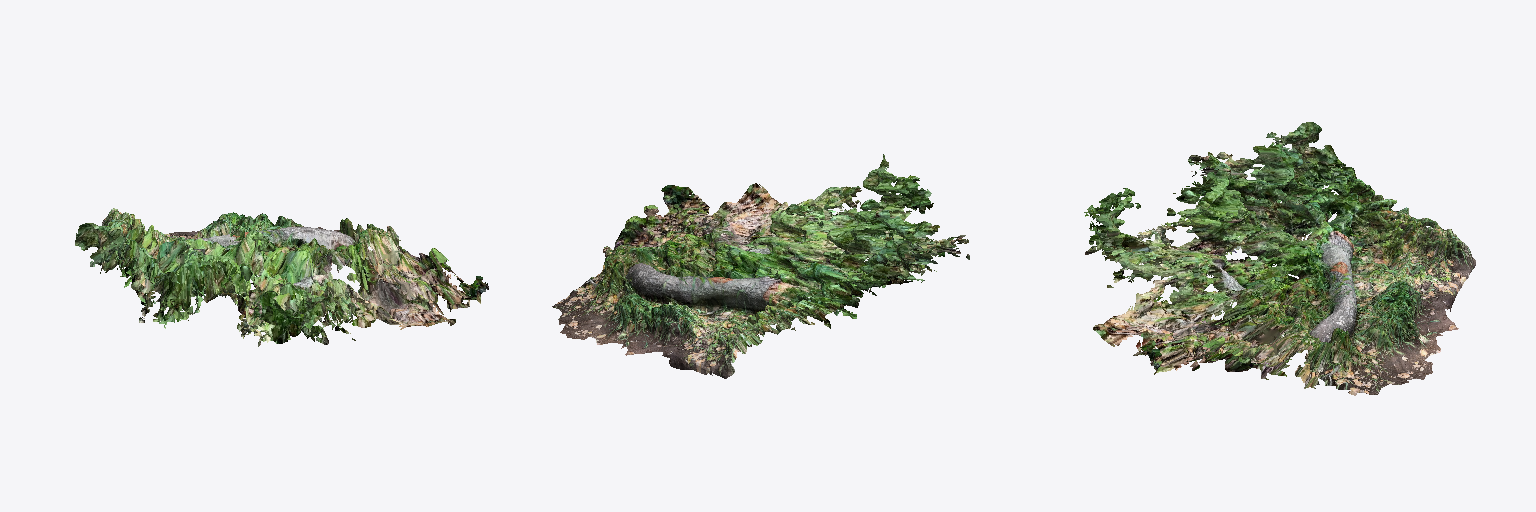
The picture shows the model from 3 angles: view 1: azimuth 30°, elevation 25°; view 2: azimuth 150°, elevation 25°; view 3: azimuth 270°, elevation 25°; orthographic projection.
Parts seen in each view (by area): view 1: mesh_0; view 2: mesh_0; view 3: mesh_0.
Boxes of the visible parts, <box> form: mesh_0: <box>75,208,488,346</box>; mesh_0: <box>552,154,969,378</box>; mesh_0: <box>1084,122,1475,395</box>.
Bounding box in the file's own units: 2.74 × 0.9193 × 2.77.
Materials: 1 (1 with a texture image).